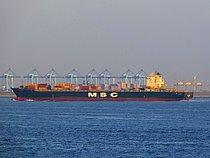Ship: (11, 73, 199, 106)
